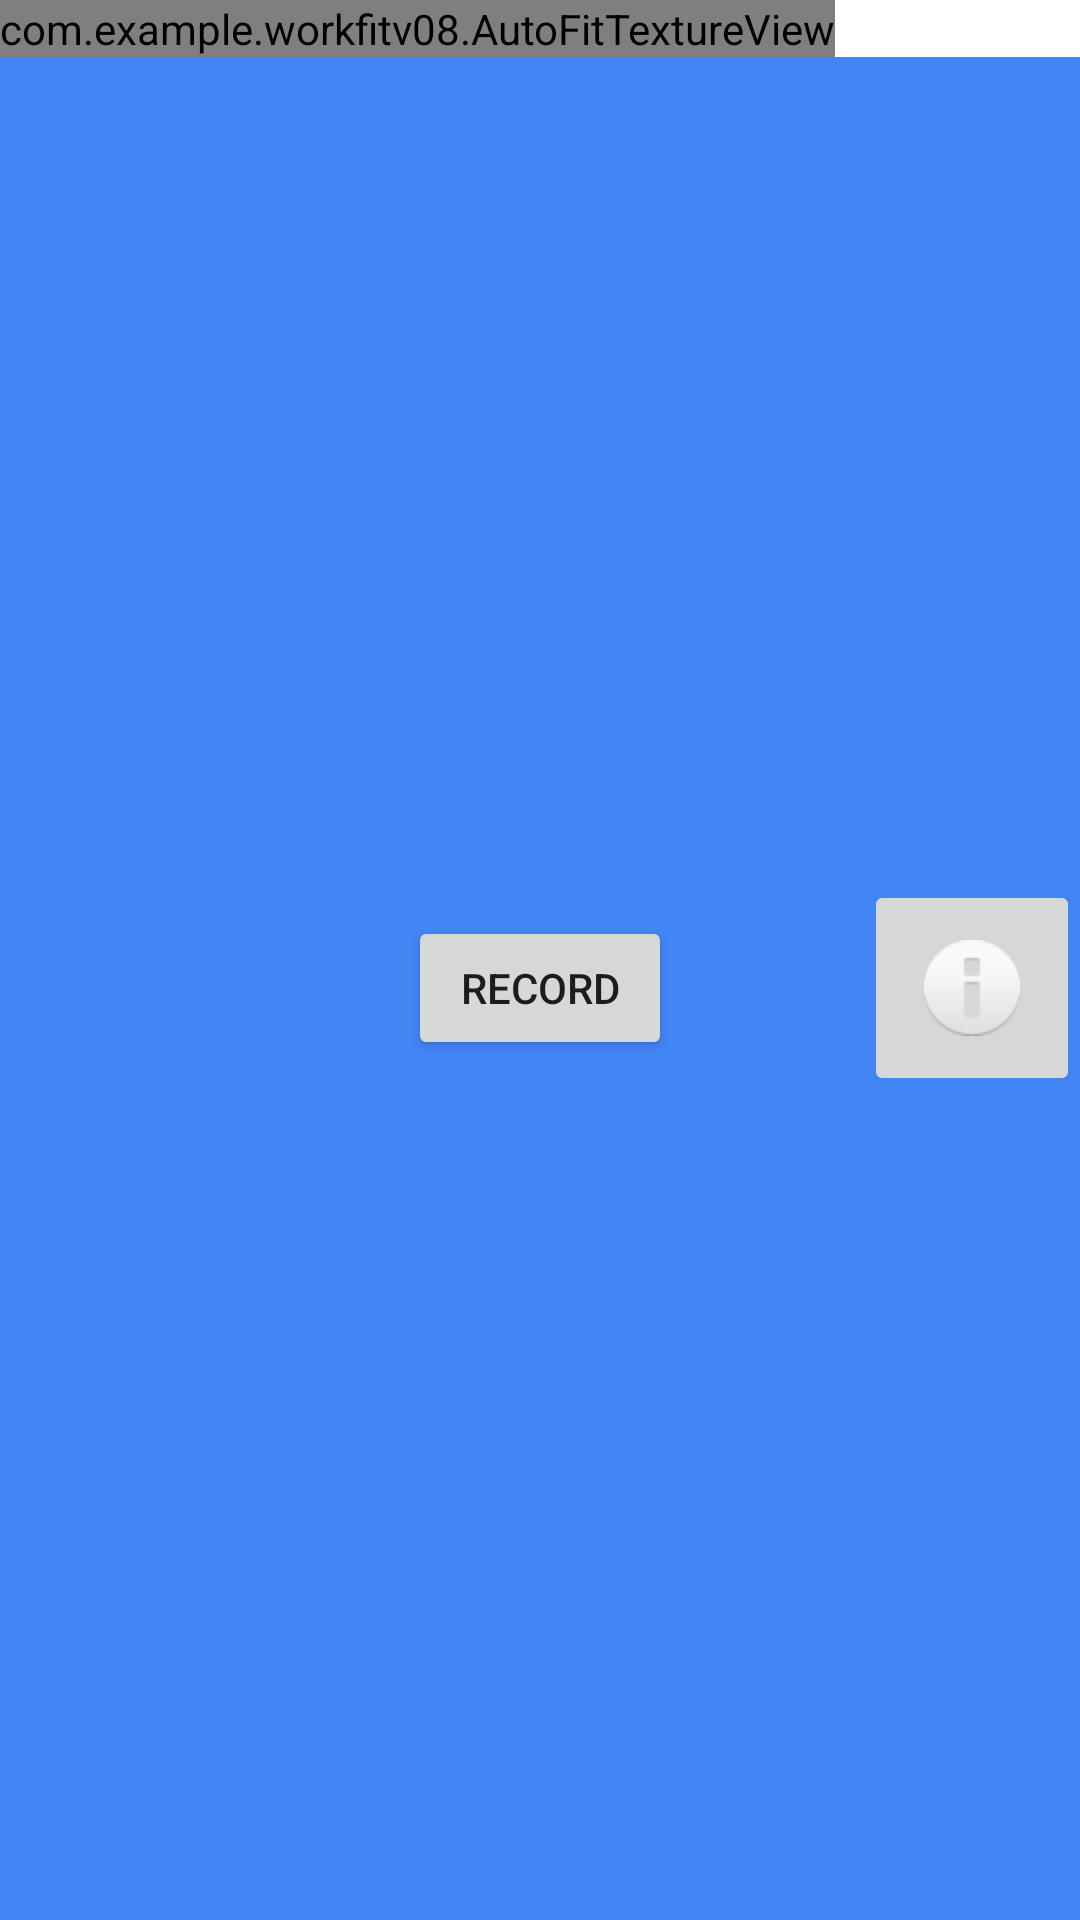

Screen size 1080px x 1920px. Icon name, then its center in pixels as (x=x, y=y):
Info: (x=972, y=988)
